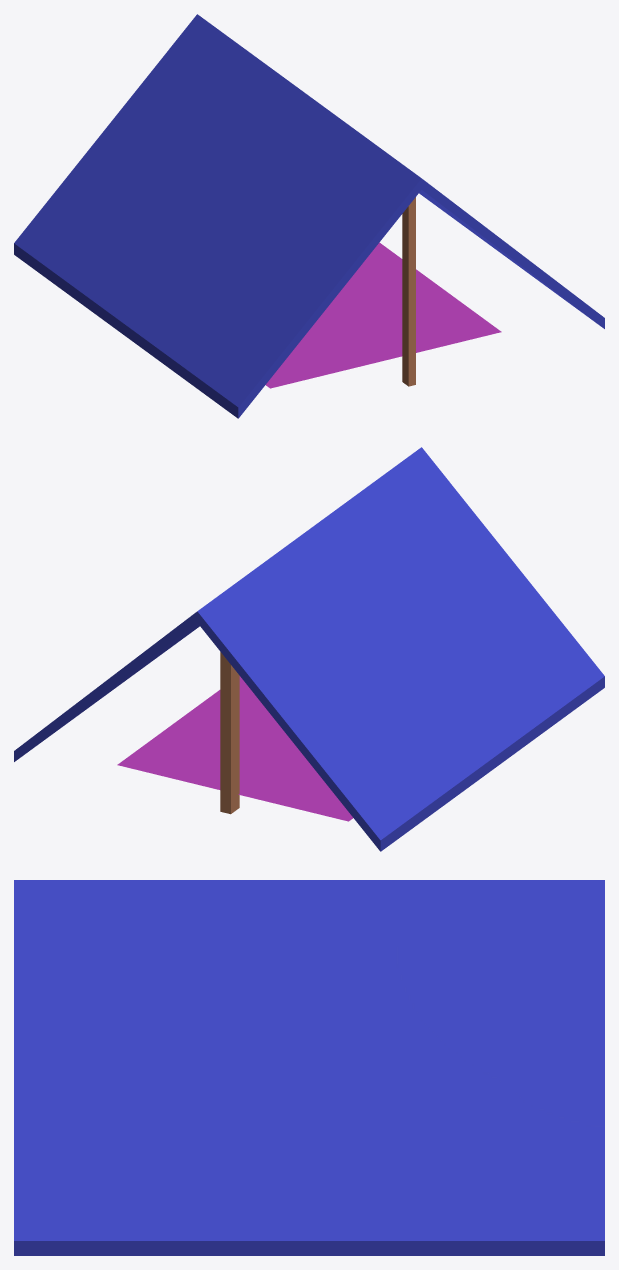
File: tent.fbx
The picture shows the model from 3 angles, top to bottom: view 1: azimuth 30°, elevation 25°; view 2: azimuth 150°, elevation 25°; view 3: azimuth 270°, elevation 25°; orthographic projection. The views are drawn at different scales.
Visible parts, largest first — view 1: Cube; view 2: Cube; view 3: Cube.
Boxes of the visible parts, x1,y1,x2,y2 form: Cube: (14, 14, 604, 418); Cube: (14, 447, 604, 851); Cube: (14, 880, 604, 1255).
Bounding box in the file's own units: 1190 × 690 × 1262.
1 material, 1 textured.
